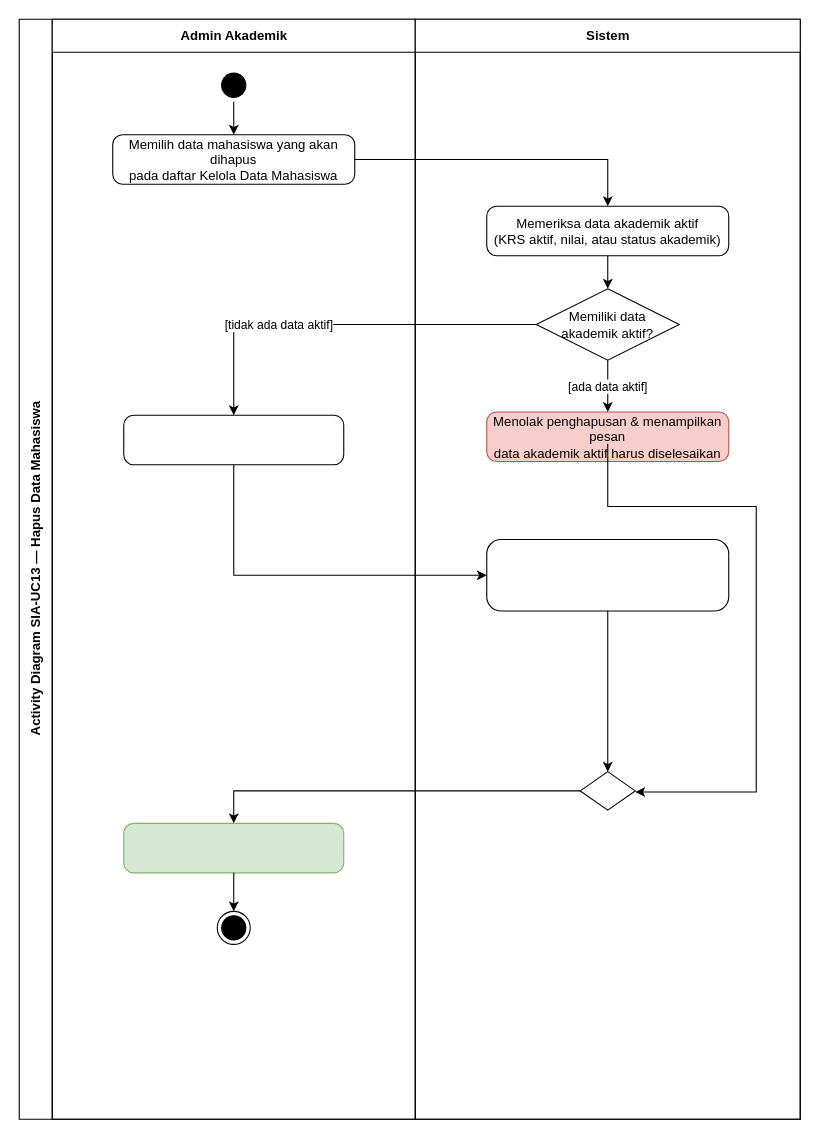
This 820x1139 diagram has some shape labels left out. Here are the shapes that lost their labels. From the top down, the centre of each, then its label:
the point at 233,439: Mengonfirmasi penghapusan data
the point at 607,574: Menghapus data mahasiswa dari database dan menampilkan konfirmasi penghapusan
the point at 233,847: Menerima konfirmasi penghapusan / pesan penolakan data aktif
